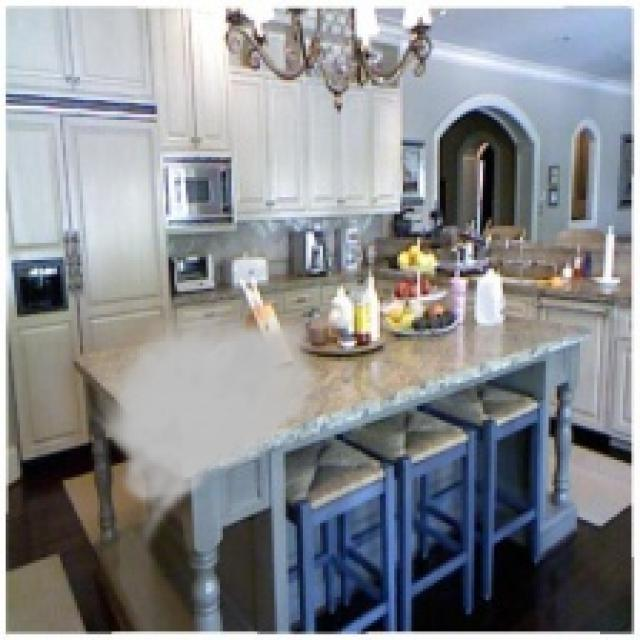Smoke: (92, 303, 334, 552)
